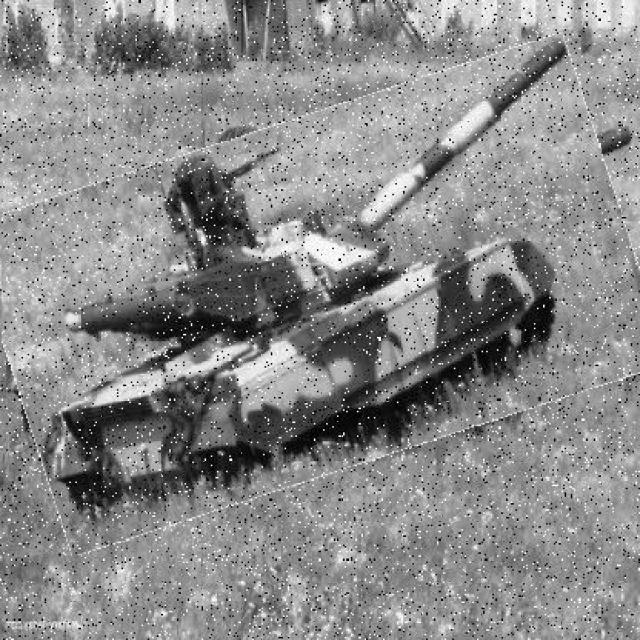Tank: (3, 78, 640, 516)
